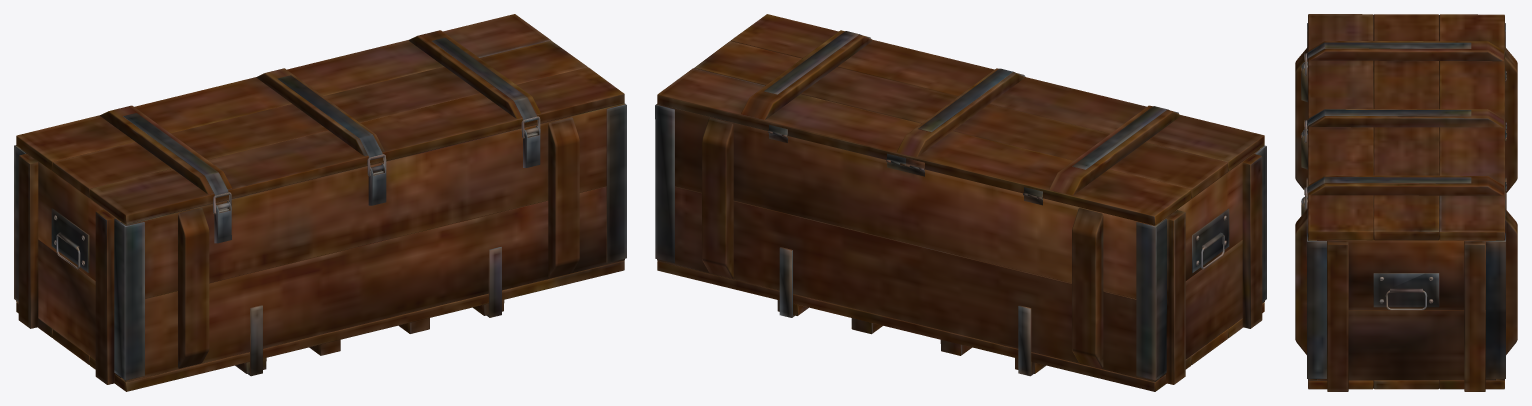
File: wooden_military_crate_lod1.glb
3 views of the same model, side by side, from view 1: azimuth 30°, elevation 25°; view 2: azimuth 150°, elevation 25°; view 3: azimuth 270°, elevation 25° (orthographic). The views are drawn at different scales.
Visible parts, largest first — view 1: wooden_military_crate, wooden_military_crate_lid; view 2: wooden_military_crate, wooden_military_crate_lid; view 3: wooden_military_crate_lid, wooden_military_crate.
Boxes of the visible parts, x1,y1,x2,y2 form: wooden_military_crate: [14, 103, 626, 391]; wooden_military_crate_lid: [16, 14, 624, 224]; wooden_military_crate: [655, 104, 1266, 391]; wooden_military_crate_lid: [657, 14, 1264, 225]; wooden_military_crate_lid: [1304, 14, 1506, 240]; wooden_military_crate: [1295, 23, 1517, 391].
Bounding box in the file's own units: 1.24 × 0.4643 × 0.5198.
Materials: 1 (1 with a texture image).
